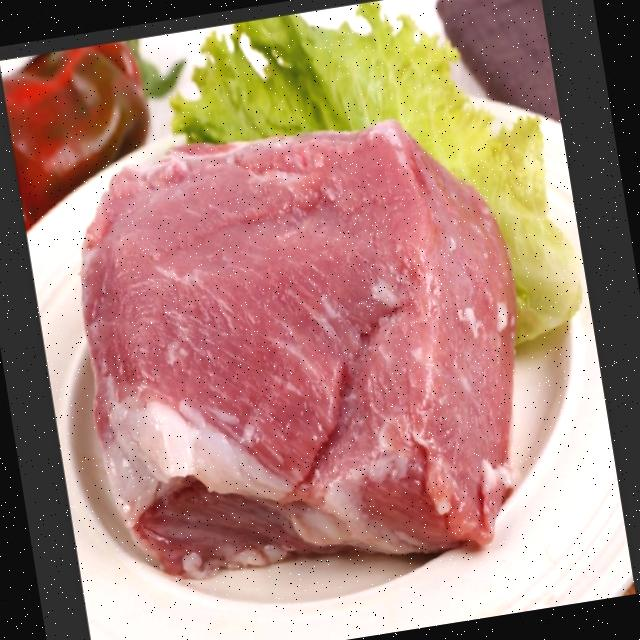meat: (39, 102, 551, 613)
